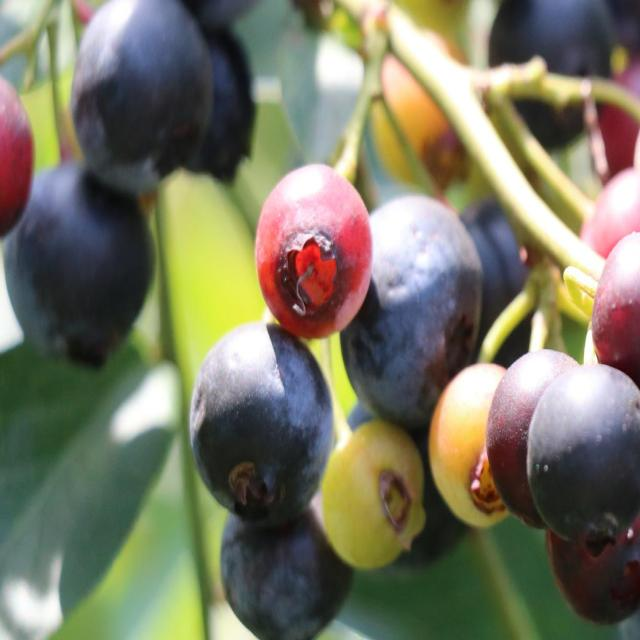blueberry: (338, 191, 484, 422), (180, 320, 332, 518), (5, 164, 150, 369), (65, 7, 217, 190), (212, 494, 358, 640), (528, 358, 640, 536), (492, 347, 579, 538)
blueberry-halfripe: (252, 161, 368, 341), (0, 74, 40, 248), (592, 231, 639, 376)
blueberry-unripe: (319, 418, 427, 573), (428, 358, 514, 530)
